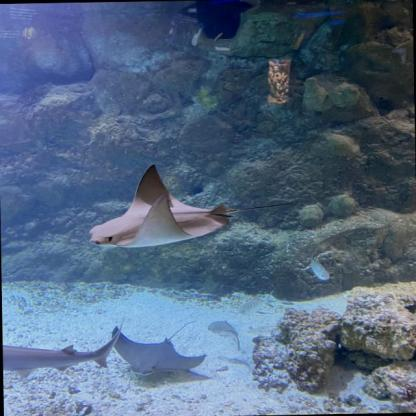fish: (207, 320, 238, 352), (237, 291, 274, 315), (309, 258, 330, 280)
shark: (2, 316, 126, 380)
stingray: (86, 162, 229, 248), (111, 324, 206, 376)
